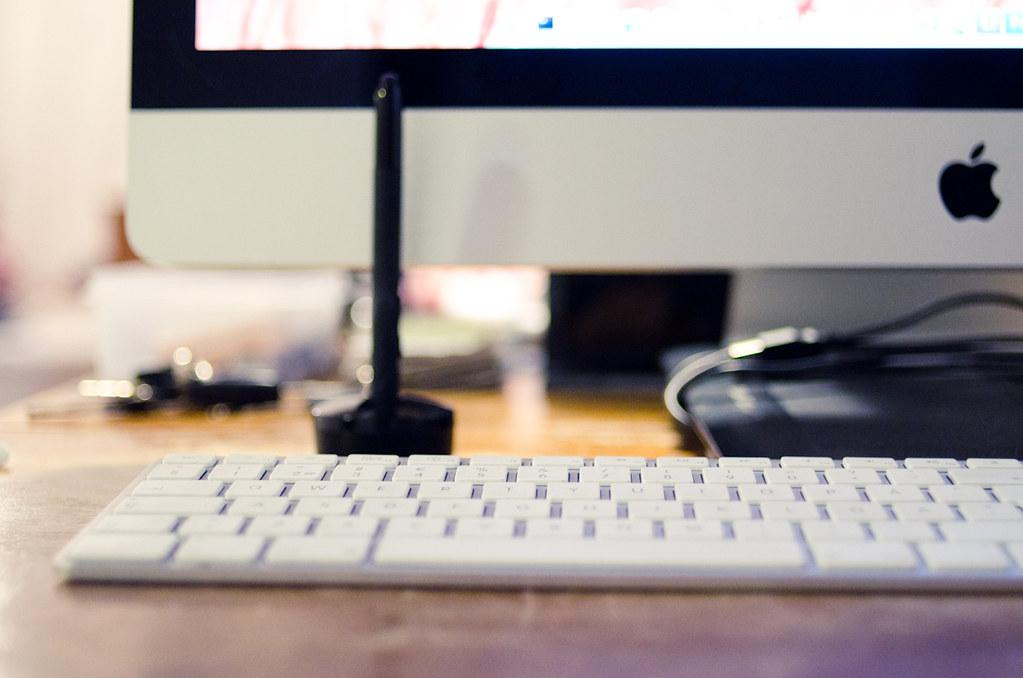computer: (124, 1, 1022, 459), (53, 452, 1023, 595)
